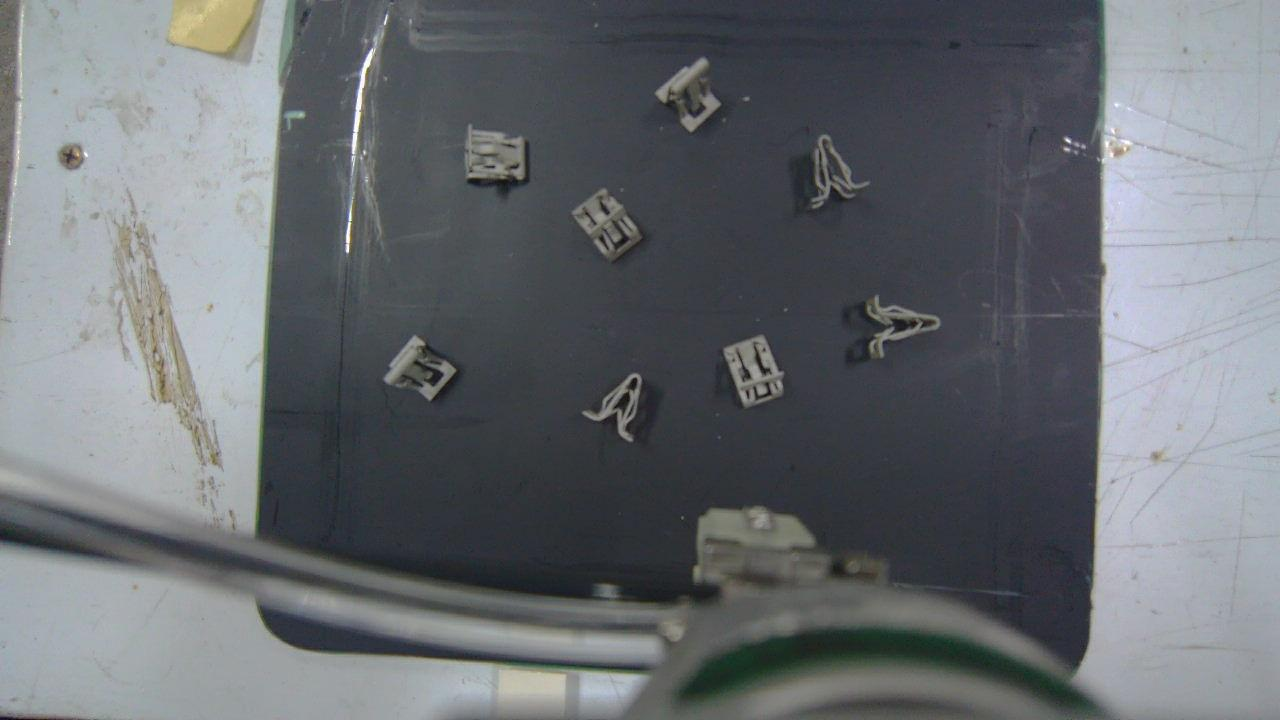ng: (573, 187, 643, 263), (654, 57, 719, 133), (382, 336, 454, 401), (812, 134, 871, 211), (723, 336, 785, 406), (866, 299, 940, 357), (583, 374, 642, 441), (466, 123, 526, 181)
